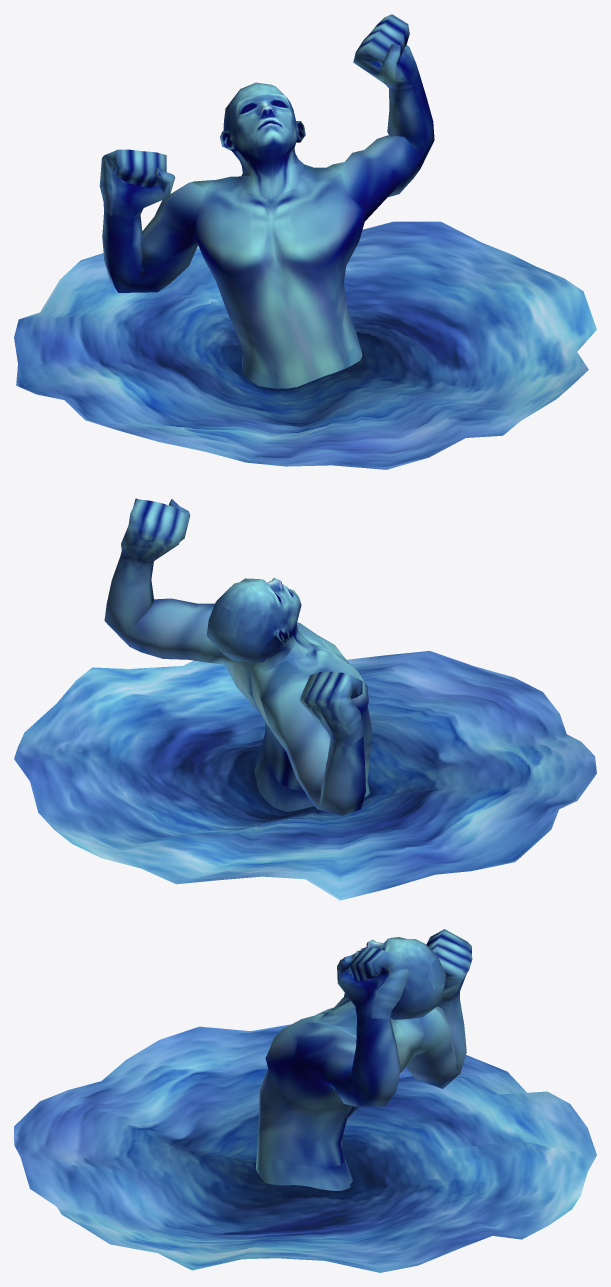
File: Undine.fbx
The picture shows the model from 3 angles, top to bottom: view 1: azimuth 30°, elevation 25°; view 2: azimuth 150°, elevation 25°; view 3: azimuth 270°, elevation 25°; orthographic projection.
Parts seen in each view (by area): view 1: Ground, Body; view 2: Ground, Body; view 3: Ground, Body.
Part boxes in pixels (left/top/right/bottom): Ground: left=14, top=221, right=596, bottom=469; Body: left=99, top=14, right=434, bottom=388; Ground: left=14, top=651, right=596, bottom=900; Body: left=104, top=498, right=372, bottom=815; Ground: left=14, top=1024, right=596, bottom=1272; Body: left=255, top=929, right=472, bottom=1190.
Bounding box in the file's own units: 1498 × 962 × 1509.
Materials: 2 (2 with a texture image).
